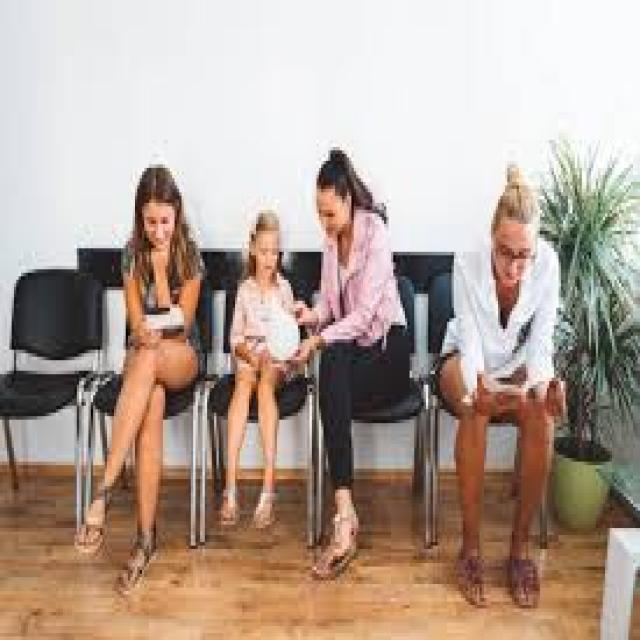nonfall: (452, 168, 574, 615), (76, 146, 200, 580), (302, 146, 404, 573), (220, 203, 298, 524)
